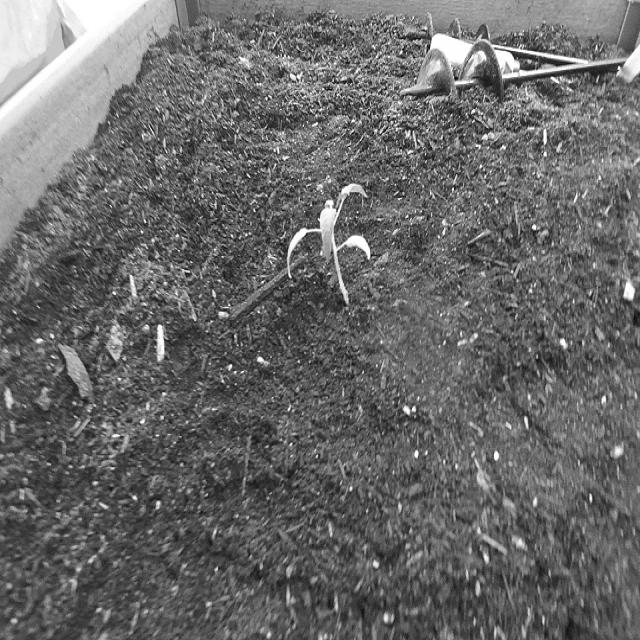Healthy: (281, 179, 375, 314)
